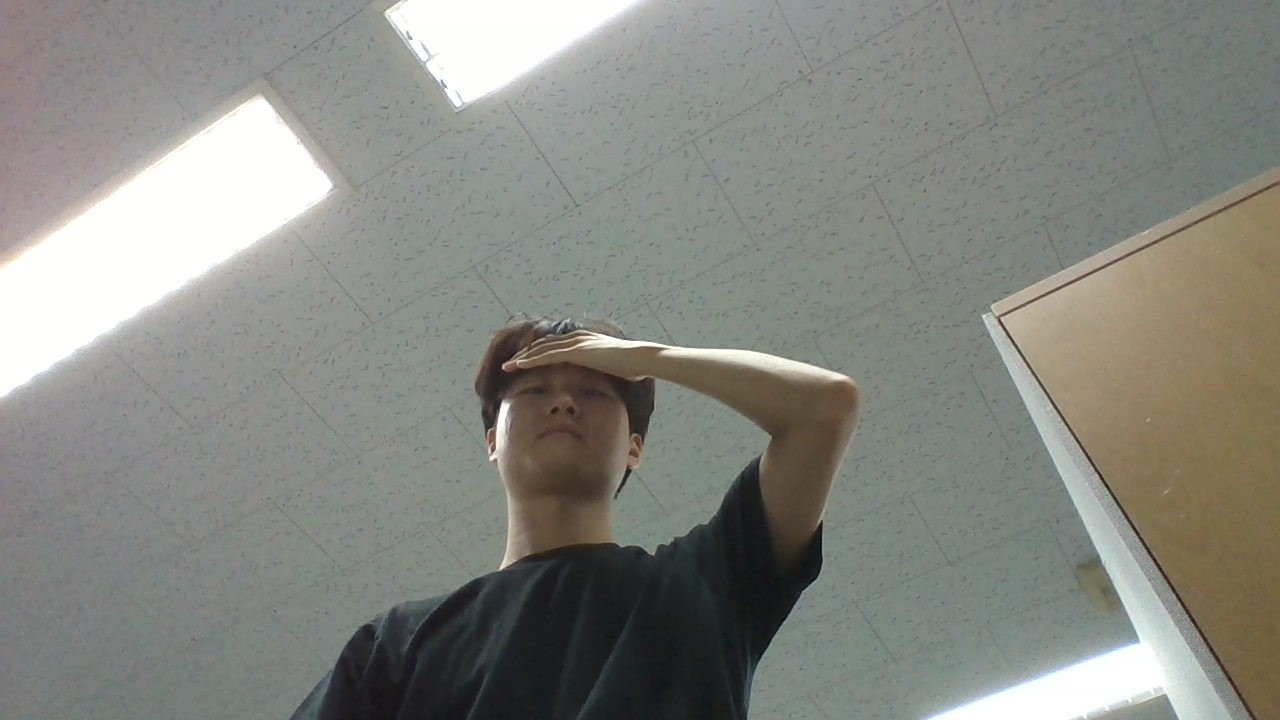Non-Helmet: (450, 297, 679, 532)
